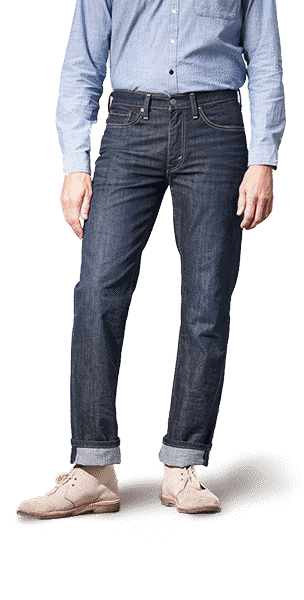jeans: (61, 84, 258, 469)
